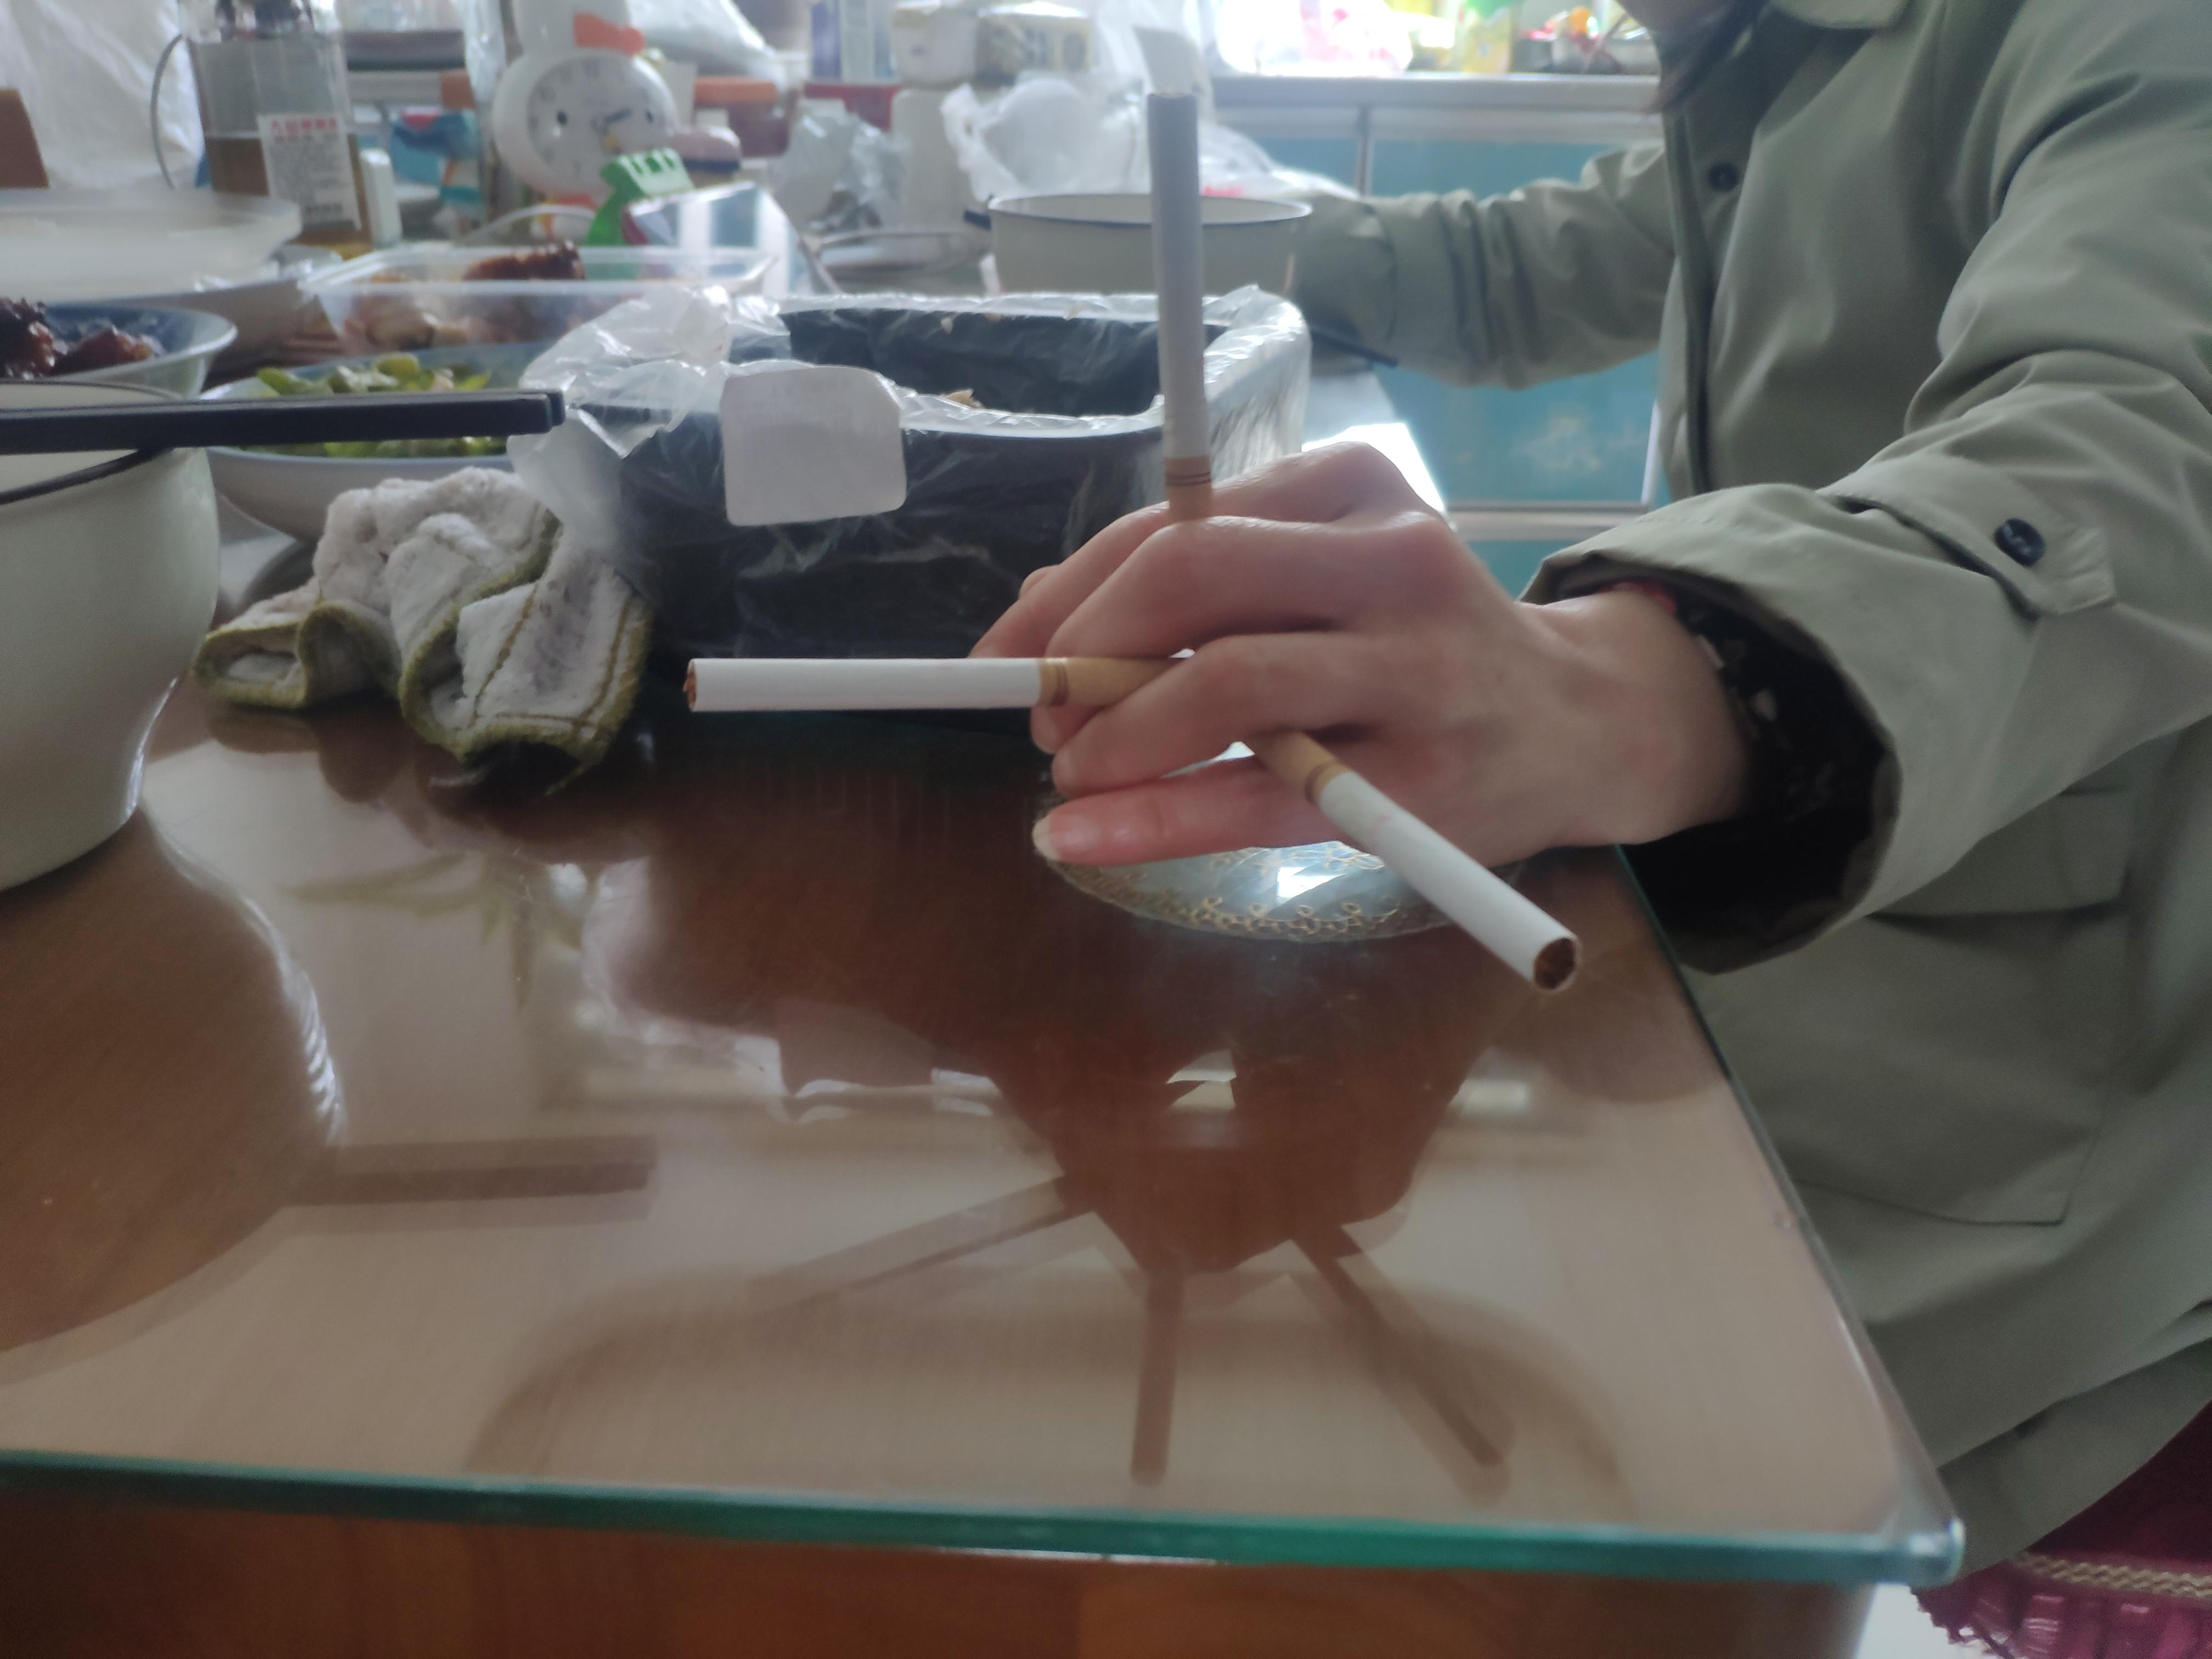smoke: (1240, 711, 1592, 999), (1143, 85, 1230, 647), (685, 653, 1226, 713)
